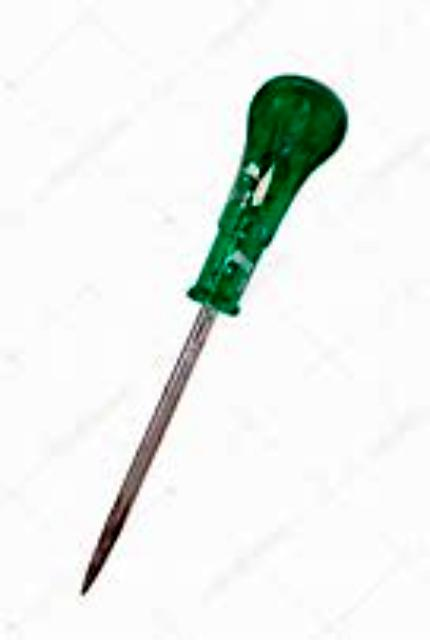ice pick: (76, 66, 348, 602)
